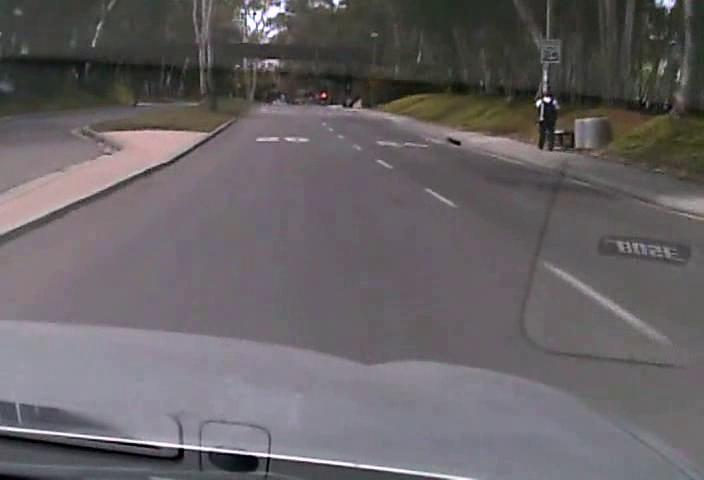speedLimit25: (539, 36, 561, 64)
